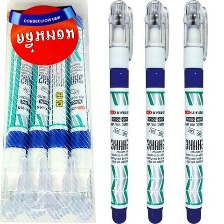correction_fluid: (0, 9, 35, 220), (19, 9, 53, 220), (142, 0, 172, 224), (179, 0, 209, 223), (106, 0, 134, 224), (66, 10, 95, 221), (43, 10, 71, 221)
